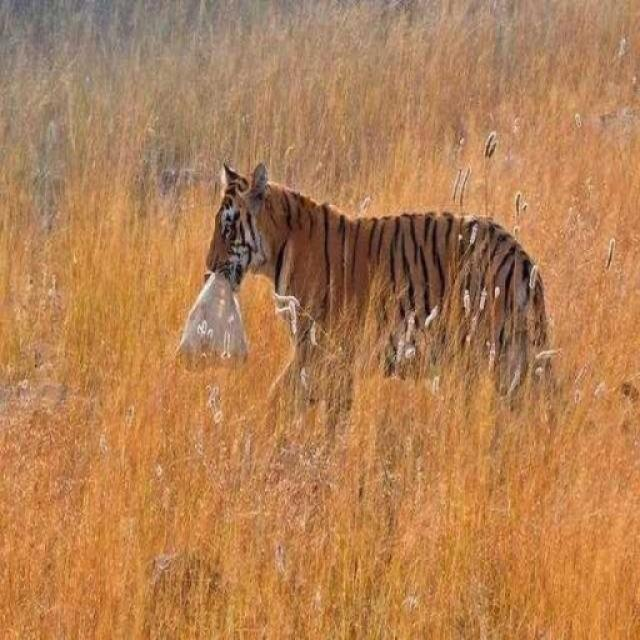tiger: (197, 160, 558, 417)
